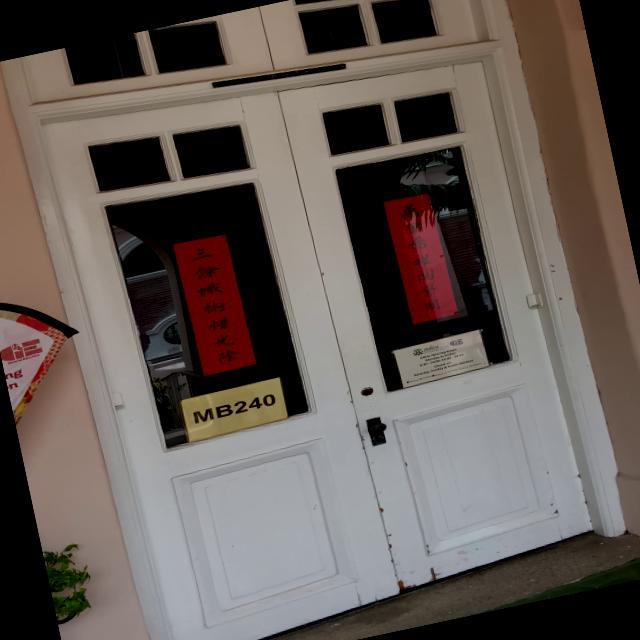room240: (175, 375, 292, 445)
